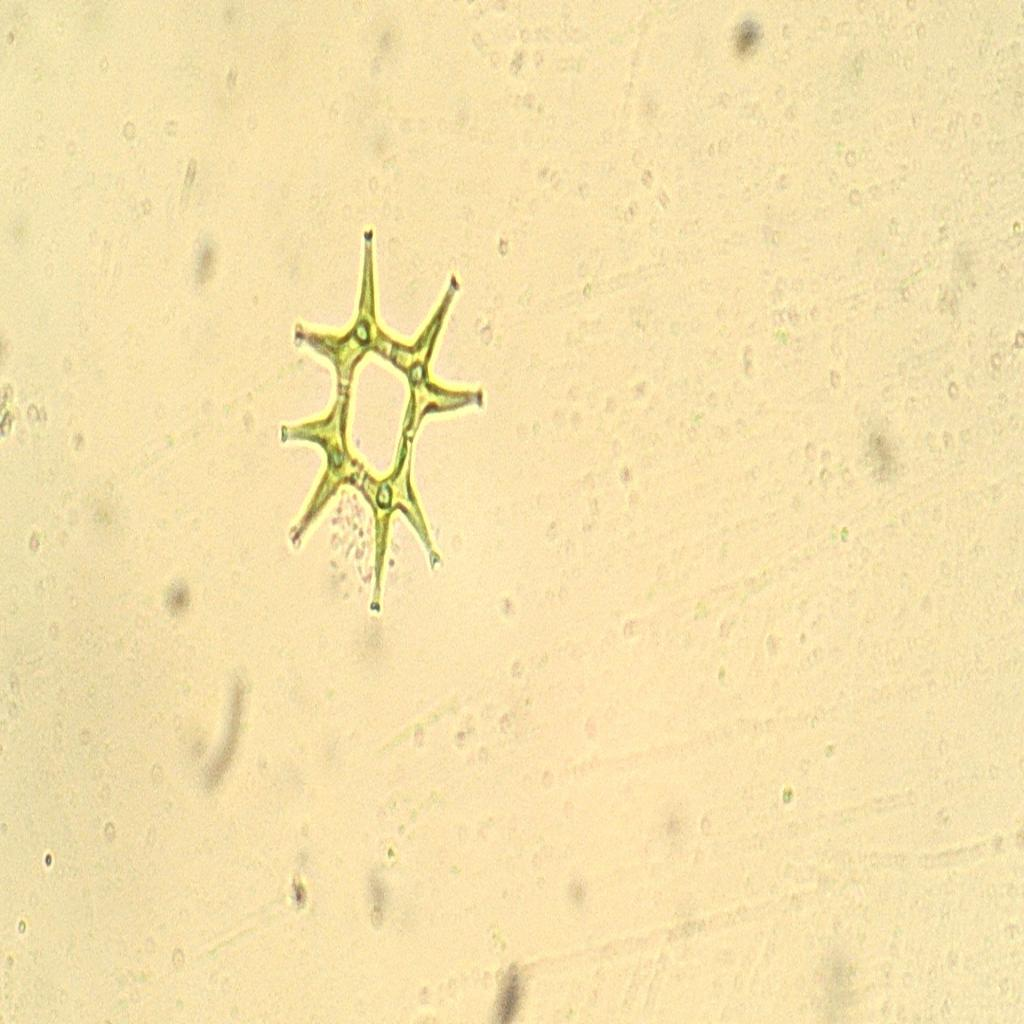Pediastrum_CO: (260, 222, 502, 628)
